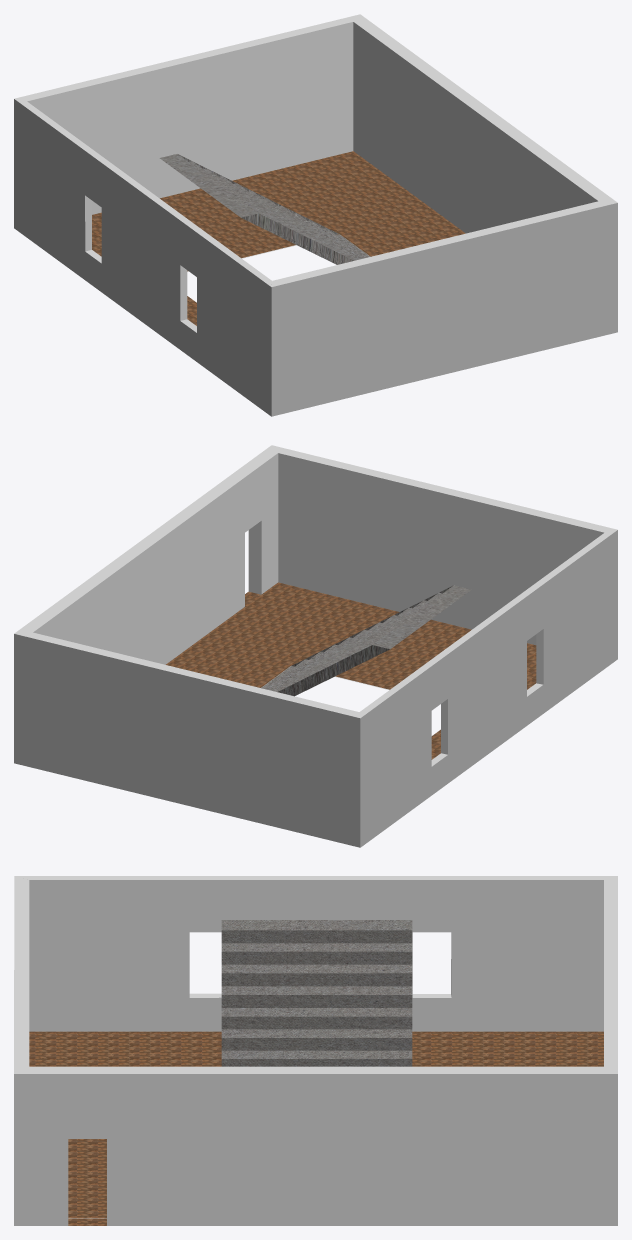
File: stairwell.fbx
The picture shows the model from 3 angles, top to bottom: view 1: azimuth 30°, elevation 25°; view 2: azimuth 150°, elevation 25°; view 3: azimuth 270°, elevation 25°; orthographic projection. The views are drawn at different scales.
Parts seen in each view (by area): view 1: Classroom 1.183; view 2: Classroom 1.183; view 3: Classroom 1.183.
Boxes of the visible parts, bbox=[...] form: Classroom 1.183: bbox=[14, 14, 617, 416]; Classroom 1.183: bbox=[14, 445, 617, 847]; Classroom 1.183: bbox=[14, 876, 617, 1225].
Size of the model in its own units: 1907 by 686 by 2457.
